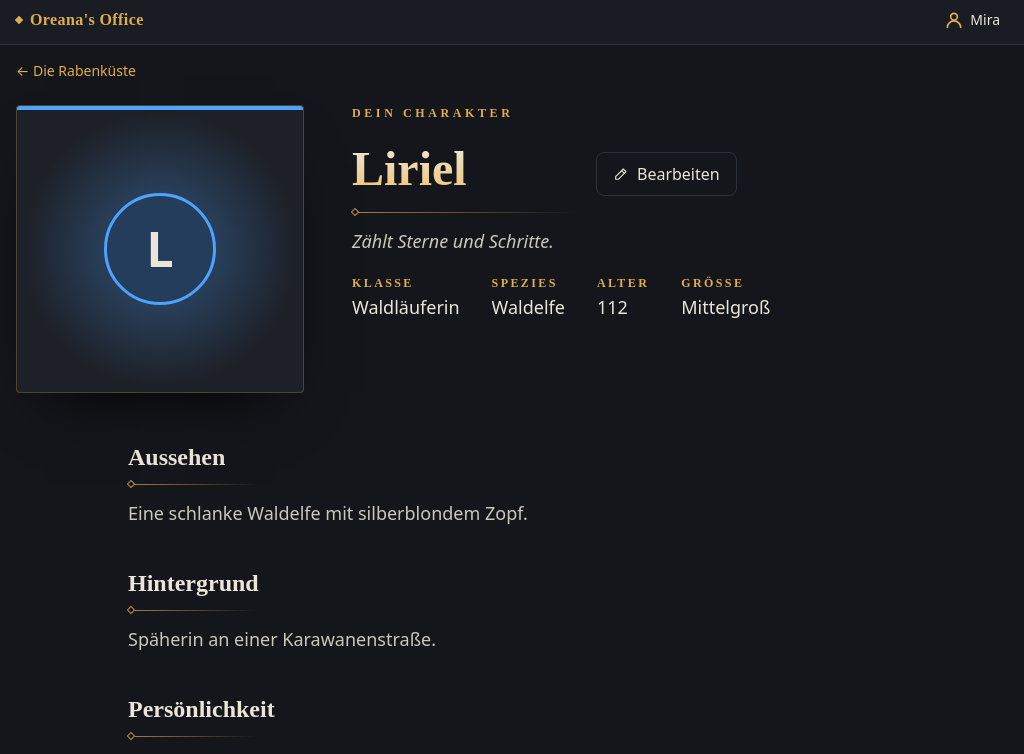
Test case: CharacterPage › shows the unsaved note only once something changed
The width and height of the screenshot is (1024, 754).
Click the button "Bearbeiten" at point(666, 174), box x1=596 y1=152 x2=737 y2=196
(page scrolled)
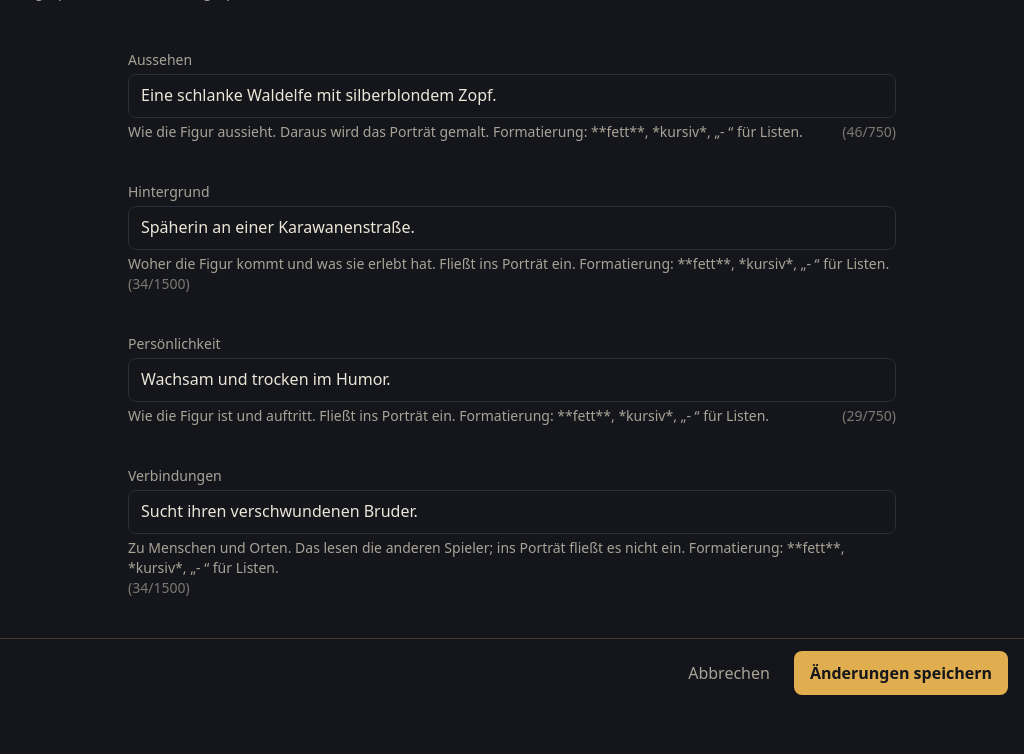
Expected: the text "Ungespeicherte Änderungen" is not shown
Type "!" into the text box labelled "Persönlichkeit" at point(512, 380), box x1=128 y1=358 x2=896 y2=402
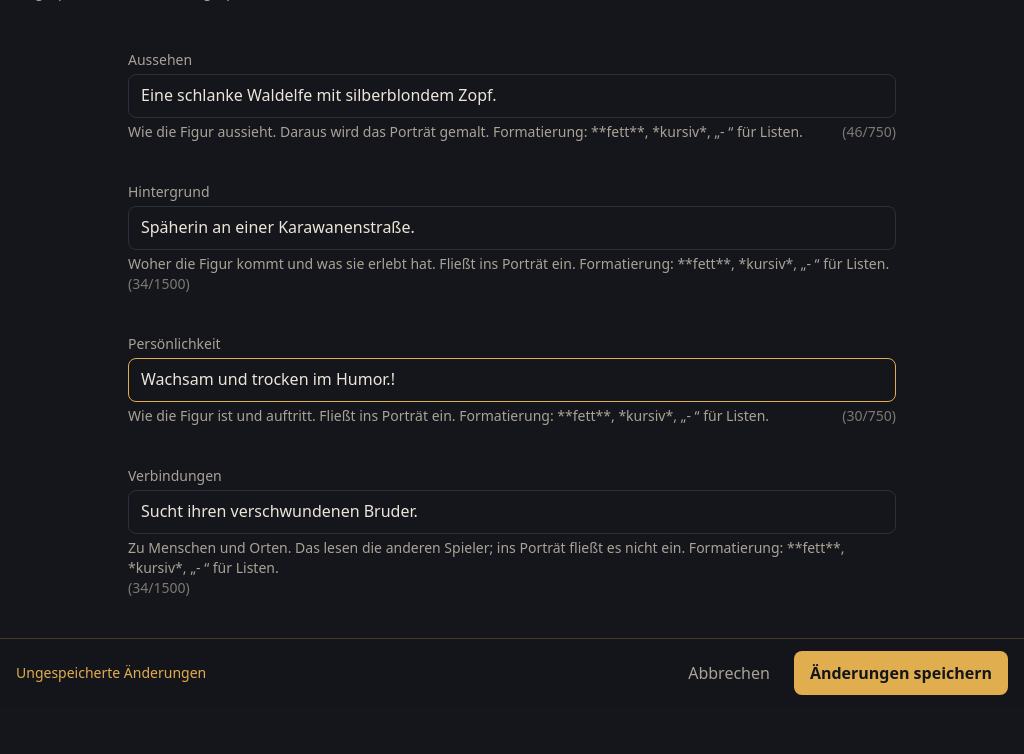
Expected: the text "Ungespeicherte Änderungen" is shown, x1=16 y1=663 x2=206 y2=683
